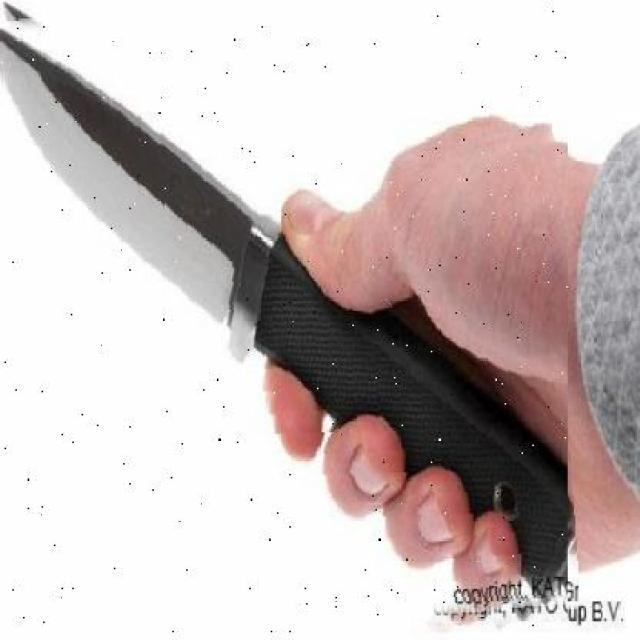knife: (0, 0, 568, 637)
